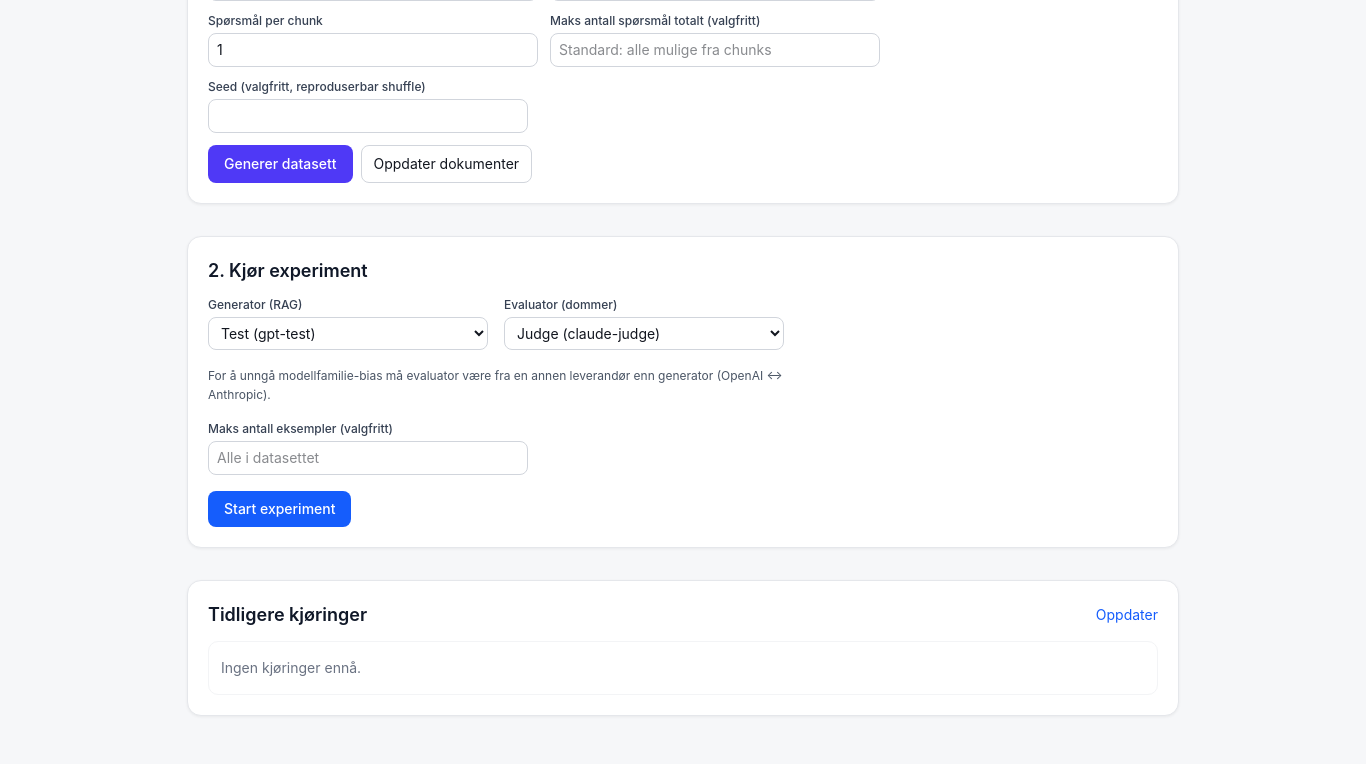
Test: Admin CRUD views (integration-style) › AdminExperimentsView shows validation when starting run without dataset
(page scrolled)
Click the button "Start experiment".
click(280, 508)  # box [208,490,352,526]
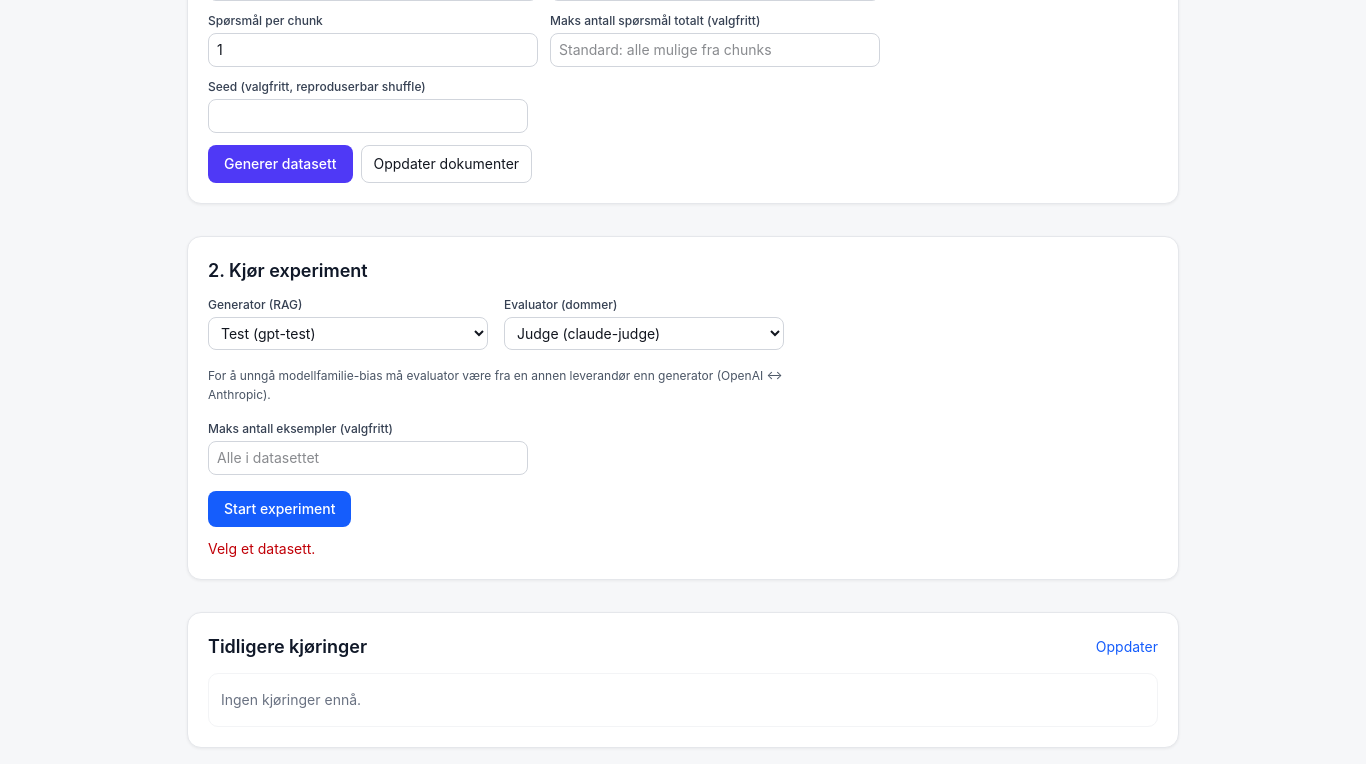
Check: the text "Velg et datasett." is shown, box [208,540,315,556]
